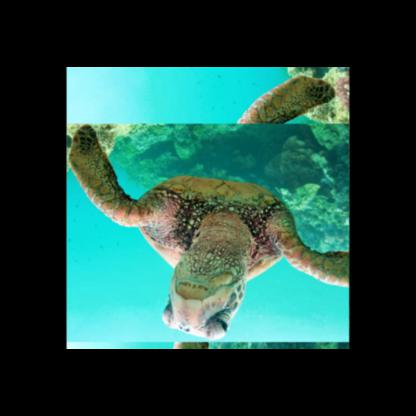turtle: (92, 96, 348, 348)
